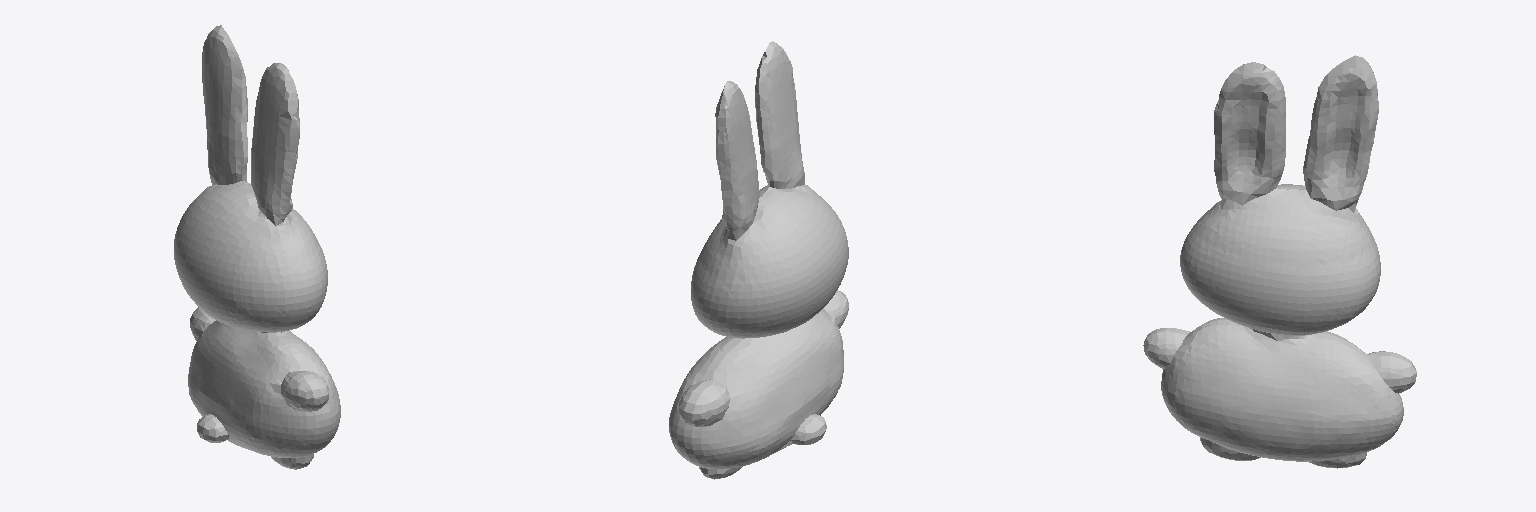
The model's file is rabbit_aug_4.obj.
3 views of the same model, side by side, from view 1: azimuth 30°, elevation 25°; view 2: azimuth 150°, elevation 25°; view 3: azimuth 270°, elevation 25° (orthographic).
Size of the model in its own units: 29.51 by 91.74 by 56.22.